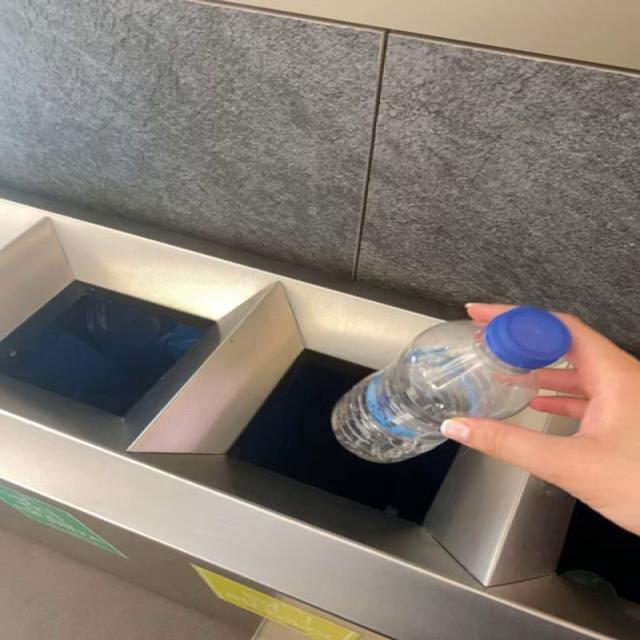Plastic: (332, 306, 572, 464)
